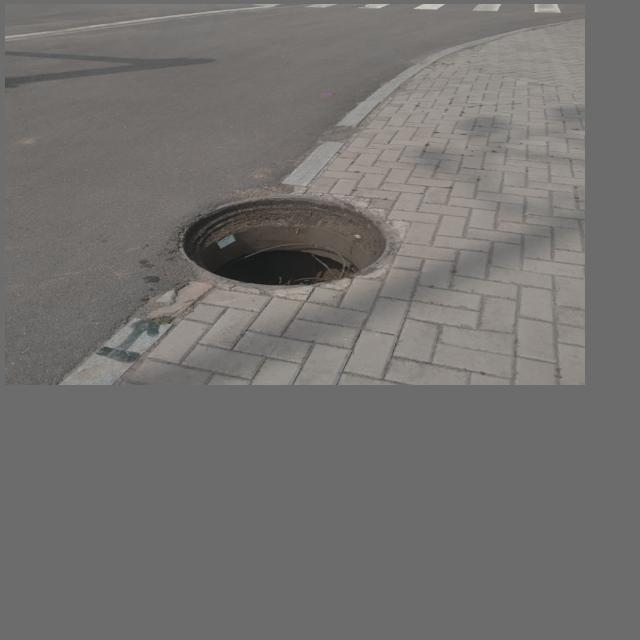lose: (178, 194, 393, 287)
